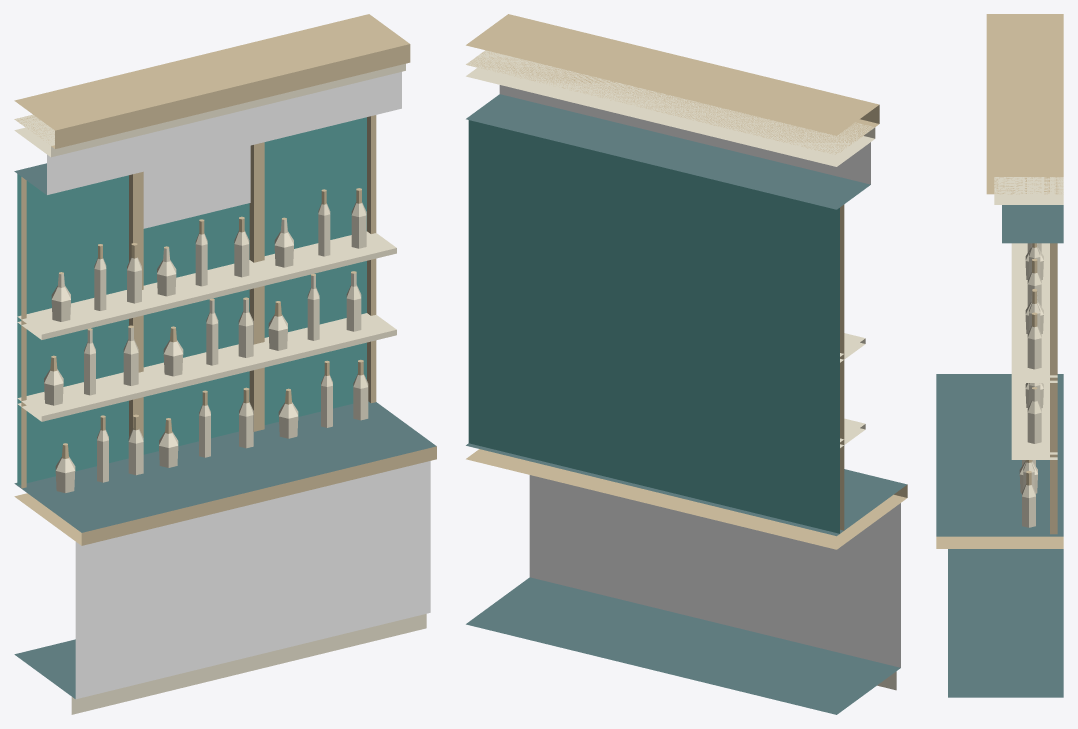
The model's file is KC32__AD_Int_Back_Bar.glb.
3 renders of one model, left to right at view 1: azimuth 30°, elevation 25°; view 2: azimuth 150°, elevation 25°; view 3: azimuth 270°, elevation 25°, orthographic. The views are drawn at different scales.
Parts seen in each view (by area): view 1: KC32_CORPS__AD_Int_Back_Bar, KC32_ACCENT__AD_Int_Back_Bar, KC32_LUMIERE__AD_Int_Back_Bar, KC32_BRONZE__AD_Int_Back_Bar; view 2: KC32_CORPS__AD_Int_Back_Bar, KC32_ACCENT__AD_Int_Back_Bar, KC32_BRONZE__AD_Int_Back_Bar, KC32_LUMIERE__AD_Int_Back_Bar; view 3: KC32_CORPS__AD_Int_Back_Bar, KC32_BRONZE__AD_Int_Back_Bar, KC32_LUMIERE__AD_Int_Back_Bar.
Boxes of the visible parts, x1,y1,x2,y2 form: KC32_CORPS__AD_Int_Back_Bar: (14, 117, 436, 698); KC32_ACCENT__AD_Int_Back_Bar: (47, 72, 430, 699); KC32_LUMIERE__AD_Int_Back_Bar: (14, 63, 426, 714); KC32_BRONZE__AD_Int_Back_Bar: (14, 14, 436, 545); KC32_CORPS__AD_Int_Back_Bar: (466, 94, 906, 714); KC32_ACCENT__AD_Int_Back_Bar: (499, 85, 900, 667); KC32_BRONZE__AD_Int_Back_Bar: (466, 14, 907, 549); KC32_LUMIERE__AD_Int_Back_Bar: (466, 50, 896, 690); KC32_CORPS__AD_Int_Back_Bar: (936, 205, 1063, 697); KC32_BRONZE__AD_Int_Back_Bar: (936, 14, 1063, 548); KC32_LUMIERE__AD_Int_Back_Bar: (994, 177, 1063, 527).
Size of the model in its own units: 2 by 3.08 by 0.66.
